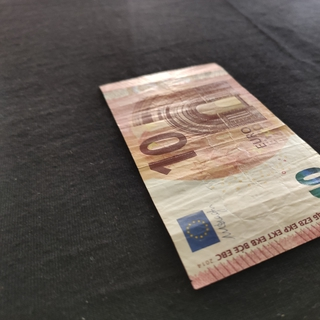10EUROFront: (98, 61, 320, 291)
